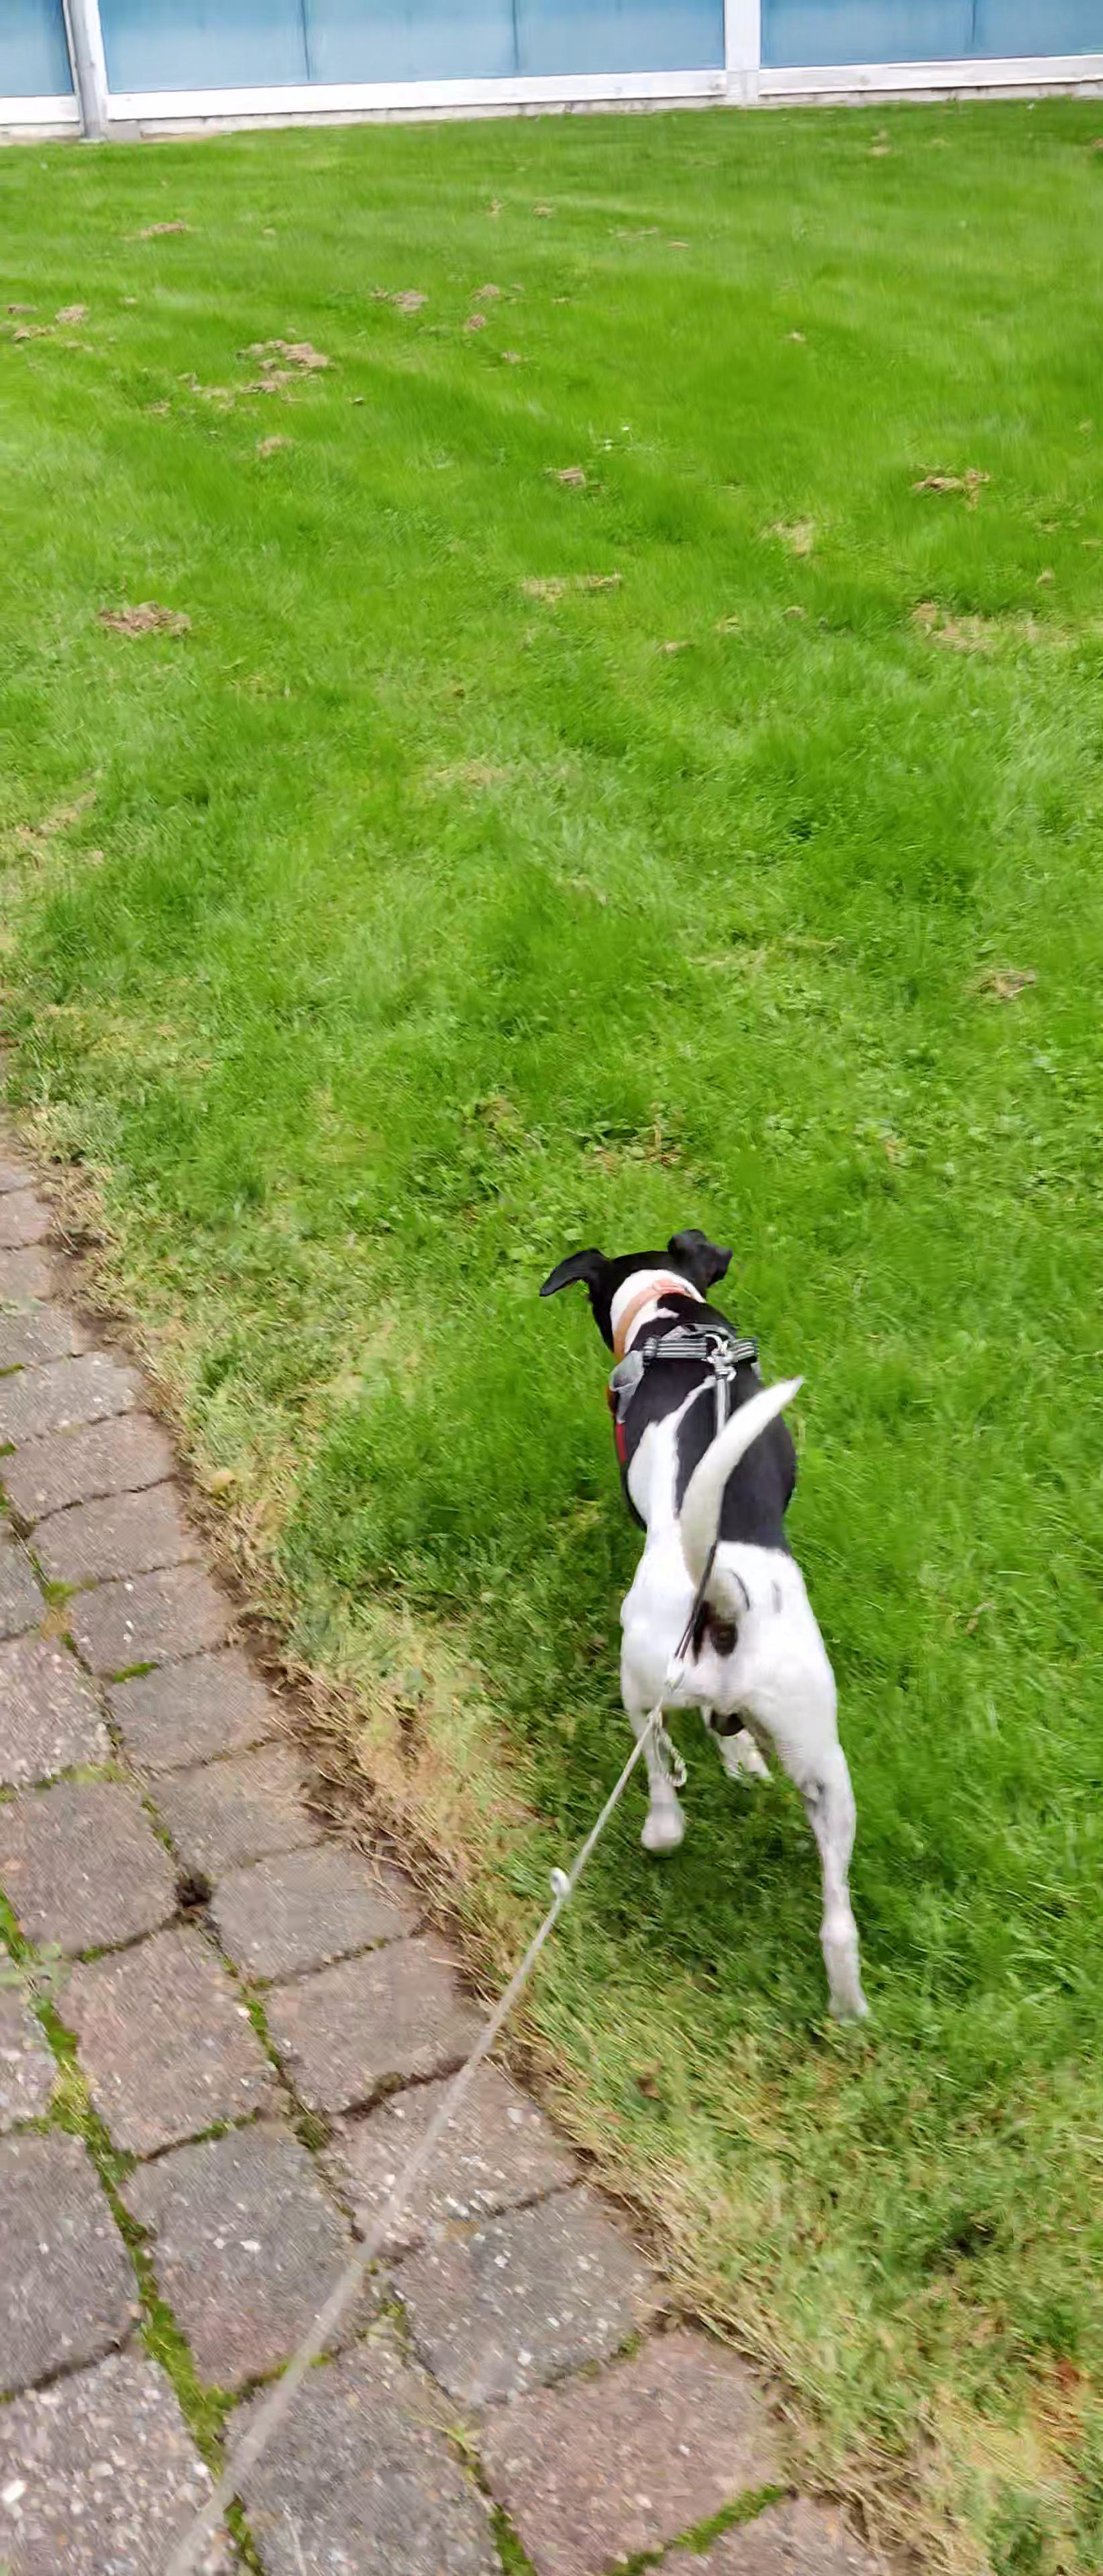Dog: (519, 1211, 927, 2032)
